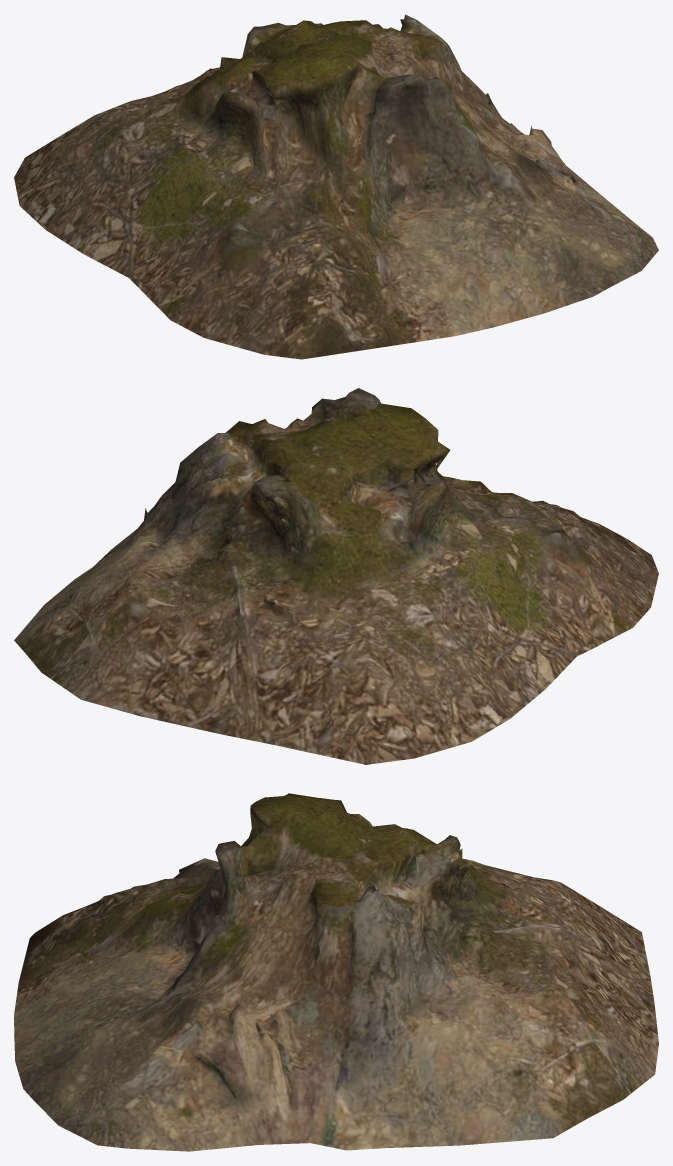
The picture shows the model from 3 angles, top to bottom: view 1: azimuth 30°, elevation 25°; view 2: azimuth 150°, elevation 25°; view 3: azimuth 270°, elevation 25°; orthographic projection. The views are drawn at different scales.
Visible parts, largest first — view 1: tree_stump_01_lod1; view 2: tree_stump_01_lod1; view 3: tree_stump_01_lod1.
Boxes of the visible parts, x1=… form: tree_stump_01_lod1: x1=14, y1=14, x2=658, y2=359; tree_stump_01_lod1: x1=14, y1=388, x2=658, y2=764; tree_stump_01_lod1: x1=14, y1=793, x2=658, y2=1151.
Size of the model in its own units: 1.43 by 0.5654 by 1.59.
Materials: 1 (1 with a texture image).
